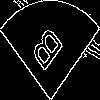B: (24, 25, 65, 81)
